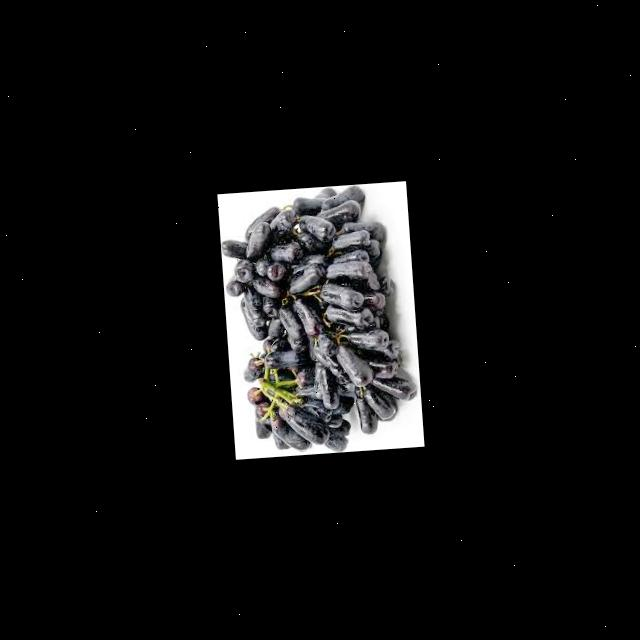grape: (216, 182, 418, 459)
